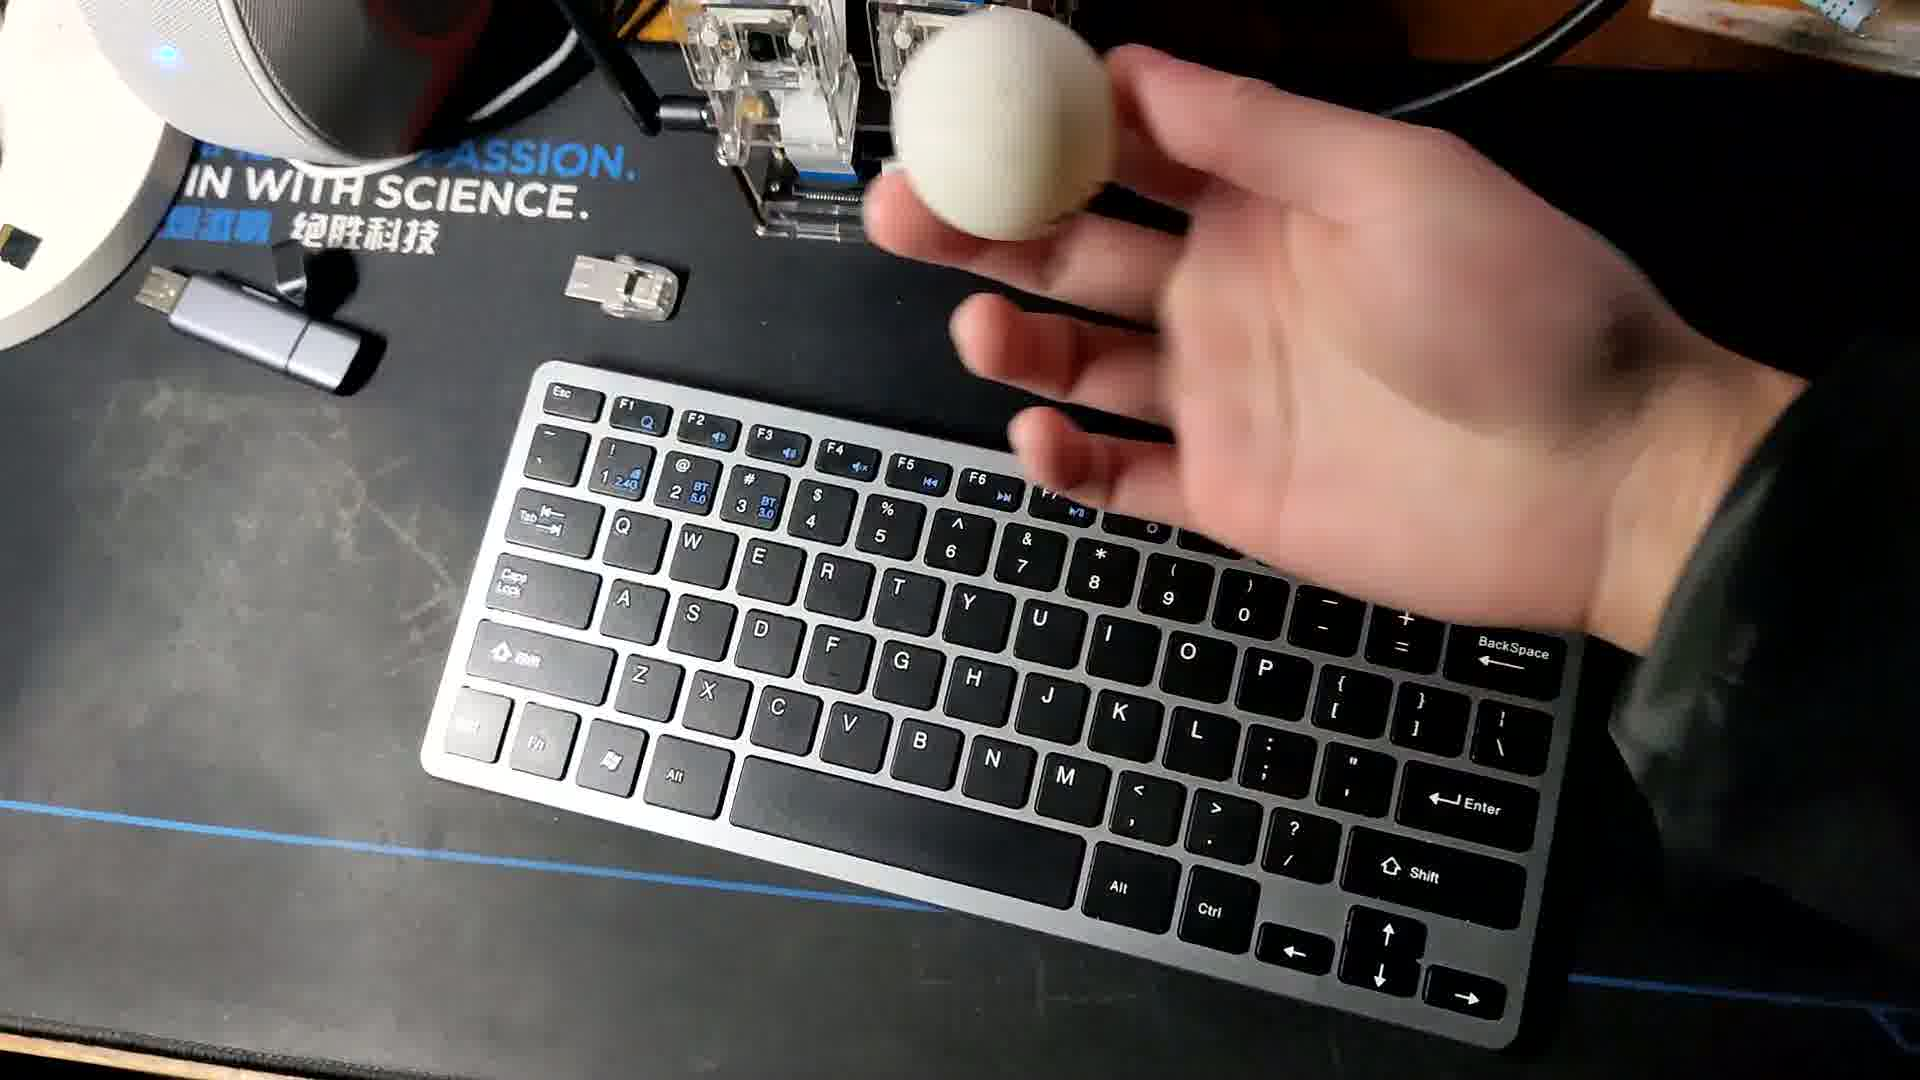Ball: (887, 11, 1124, 244)
